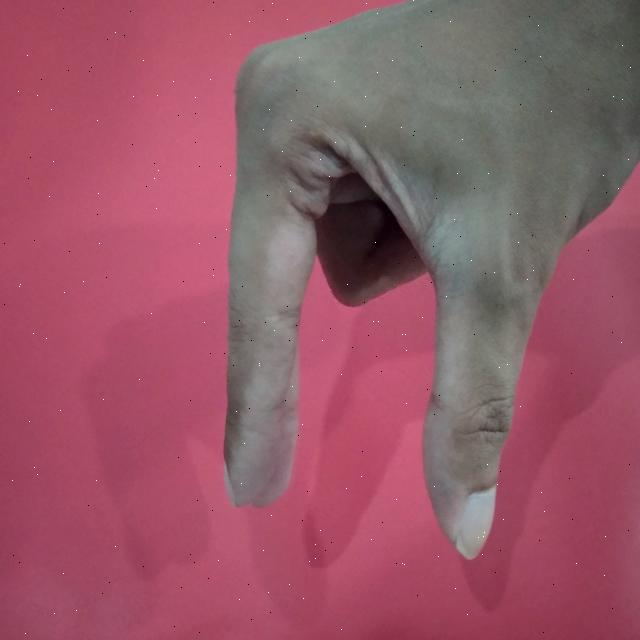Q: (212, 0, 639, 565)
